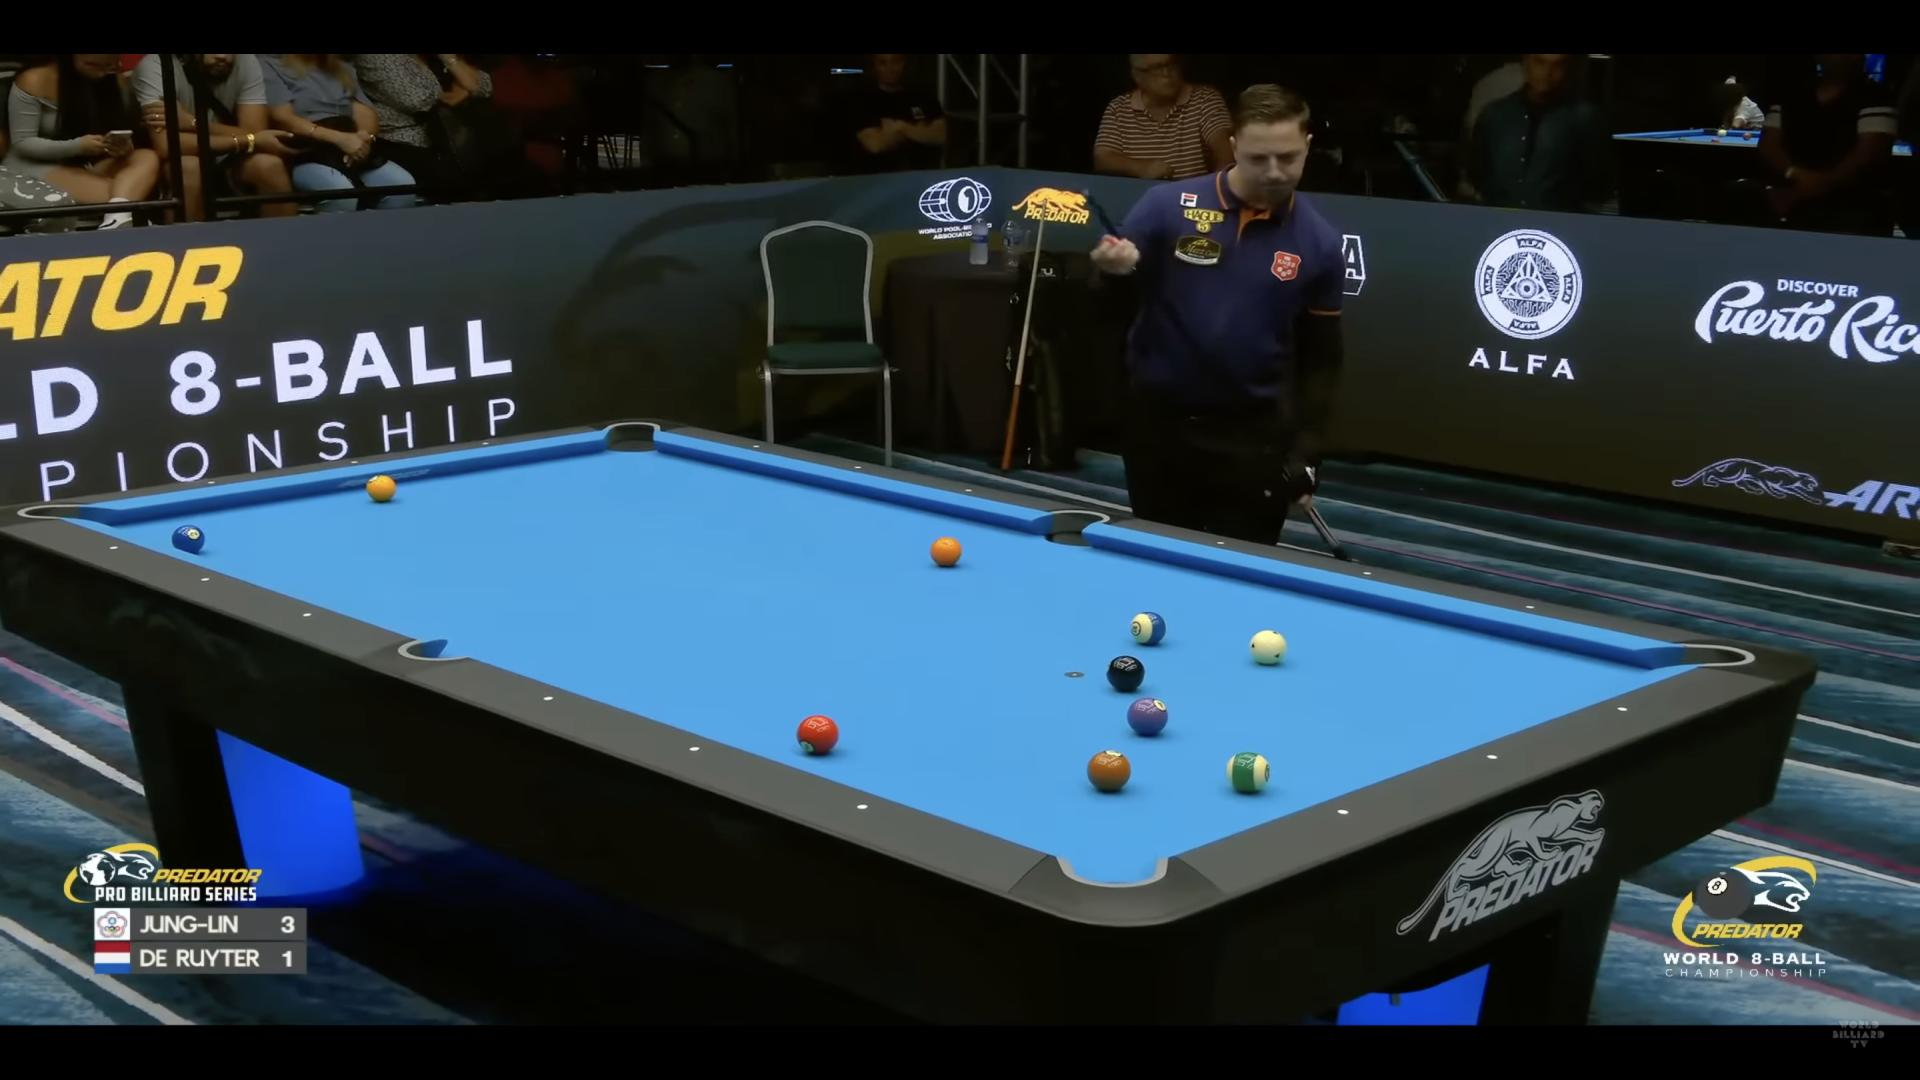Black: (1106, 655, 1146, 691)
Cue: (1250, 629, 1287, 665)
Dot: (541, 691, 556, 707), (853, 800, 870, 815), (684, 742, 702, 757), (1336, 807, 1352, 822), (1484, 752, 1499, 765), (1615, 703, 1631, 716), (301, 608, 314, 621), (199, 574, 212, 585), (107, 541, 120, 553), (1216, 538, 1226, 547), (349, 458, 360, 467), (852, 463, 862, 472), (1362, 568, 1371, 578), (207, 477, 216, 487), (481, 439, 491, 448), (752, 442, 761, 451), (1524, 603, 1535, 611), (963, 487, 973, 495)
Solid: (1087, 749, 1131, 790), (796, 715, 840, 756), (1126, 698, 1168, 736), (930, 537, 963, 567), (171, 525, 204, 554), (367, 475, 396, 502)
Striped: (1226, 752, 1270, 793), (1130, 612, 1167, 646)
